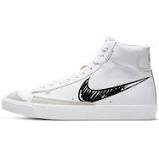nike: (71, 63, 152, 112)
